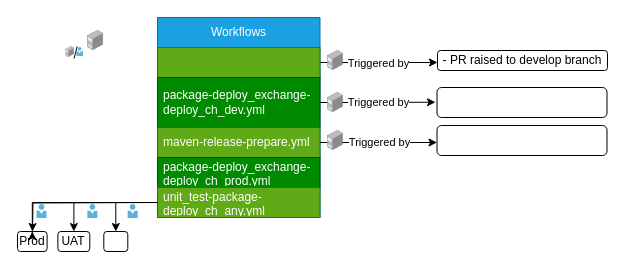
Some shapes in this 625 by 269 pixel diagram are drawn without their labels. Each missing label, with the centre of its shape:
"- PR to develop is closed and merged" goes at (x=521, y=102).
"- PR to main is closed and merged" goes at (x=521, y=140).
"Dev" goes at (x=115, y=241).
"unit_test-compile.yml" goes at (x=238, y=62).
